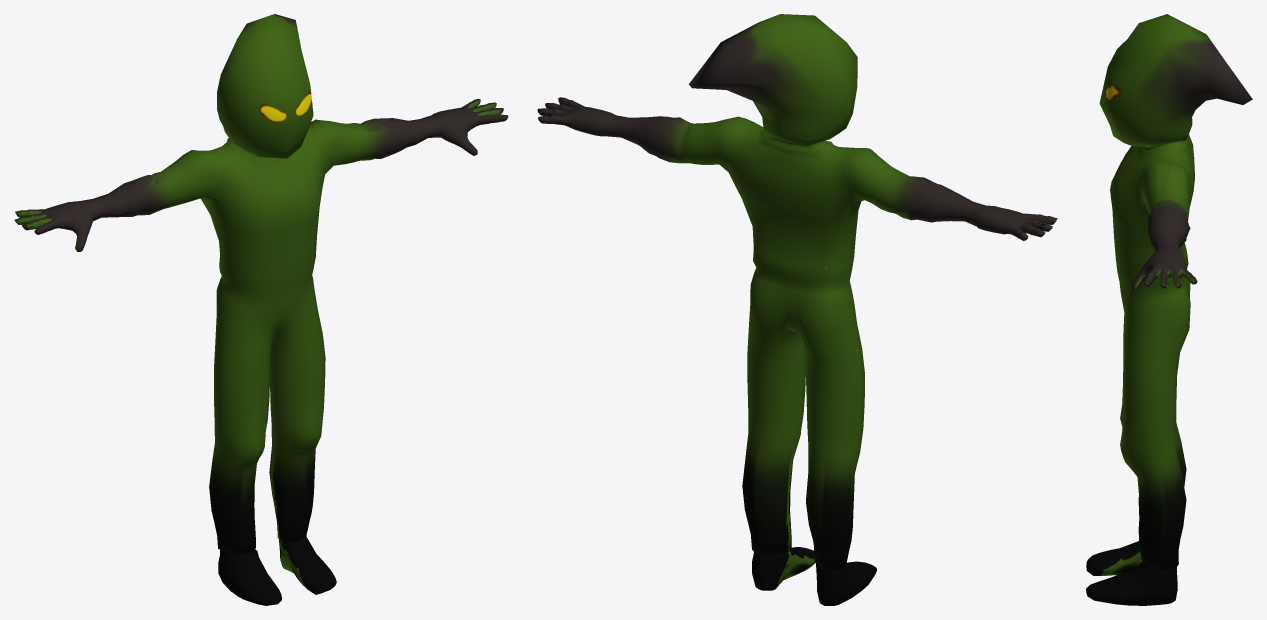
Rendered from bacteria.fbx.
The picture shows the model from 3 angles, left to right: view 1: azimuth 30°, elevation 25°; view 2: azimuth 150°, elevation 25°; view 3: azimuth 270°, elevation 25°; orthographic projection. The views are drawn at different scales.
Visible parts, largest first — view 1: bacteria; view 2: bacteria; view 3: bacteria.
Boxes of the visible parts, bbox=[...] form: bacteria: bbox=[14, 14, 508, 605]; bacteria: bbox=[537, 14, 1057, 605]; bacteria: bbox=[1086, 14, 1252, 605].
Size of the model in its own units: 179 by 196 by 51.8.
Materials: 1 (1 with a texture image).
